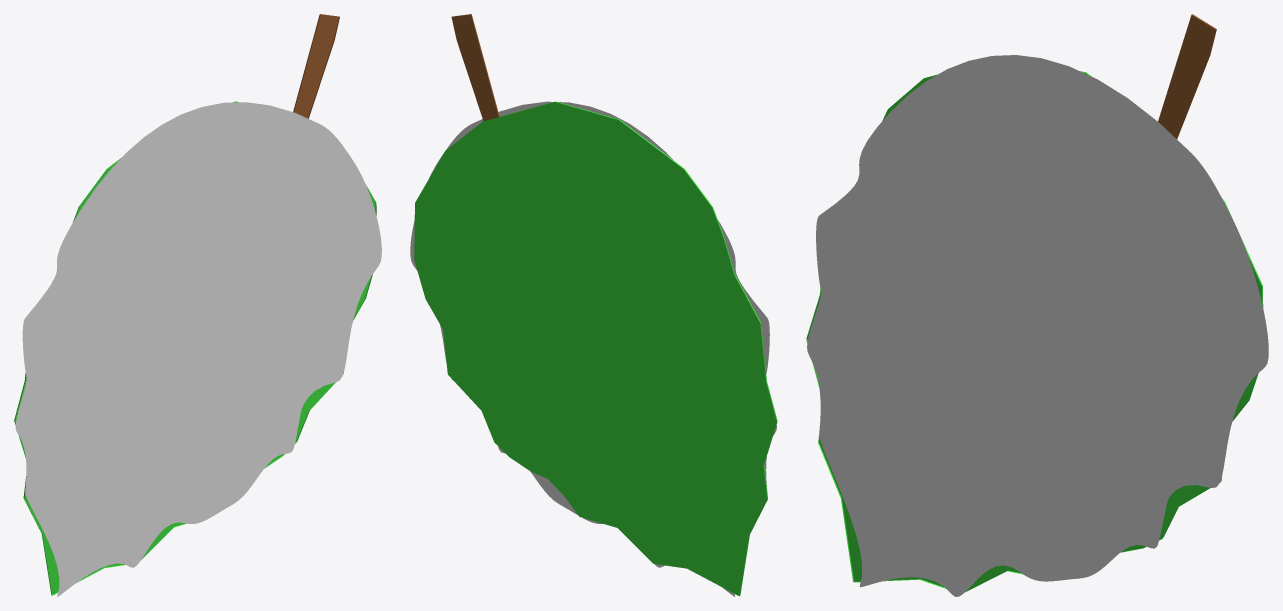
File: feuille.fbx
3 renders of one model, left to right at view 1: azimuth 30°, elevation 25°; view 2: azimuth 150°, elevation 25°; view 3: azimuth 330°, elevation 25°, orthographic. The views are drawn at different scales.
Visible parts, largest first — view 1: BézierCurve, Feuille; view 2: Feuille, BézierCurve; view 3: BézierCurve, Feuille.
Boxes of the visible parts, x1=… form: BézierCurve: x1=15, y1=102, x2=381, y2=596; Feuille: x1=14, y1=14, x2=376, y2=595; Feuille: x1=414, y1=14, x2=777, y2=596; BézierCurve: x1=410, y1=101, x2=776, y2=596; BézierCurve: x1=807, y1=55, x2=1268, y2=596; Feuille: x1=806, y1=14, x2=1263, y2=591.
Bounding box in the file's own units: 277 × 374 × 1.01.
